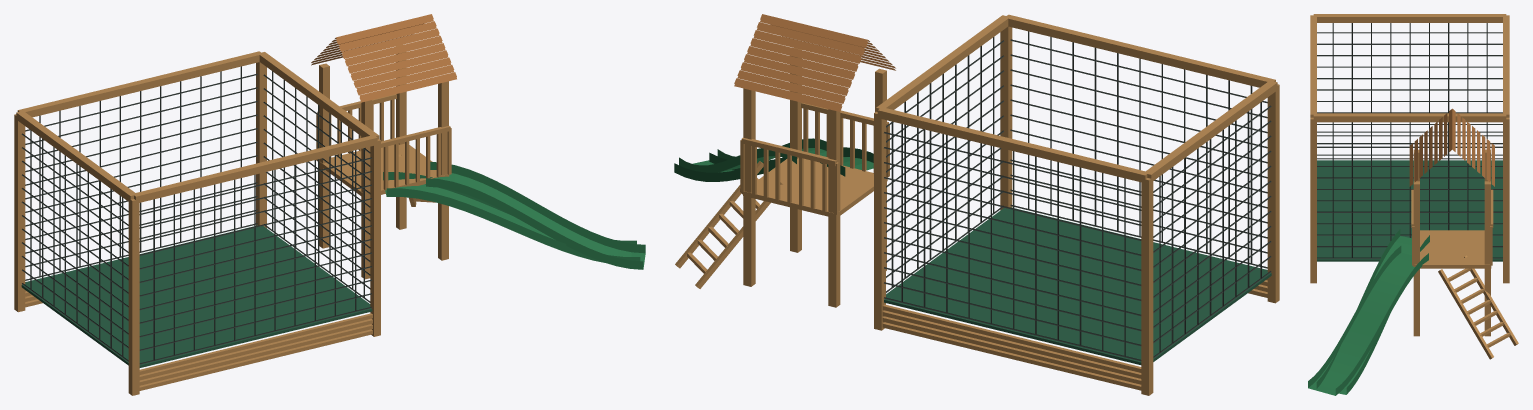
3 renders of one model, left to right at view 1: azimuth 30°, elevation 25°; view 2: azimuth 150°, elevation 25°; view 3: azimuth 270°, elevation 25°, orthographic. The views are drawn at different scales.
Parts seen in each view (by area): view 1: SW-E108; view 2: SW-E108; view 3: SW-E108.
Boxes of the visible parts, x1,y1,x2,y2 form: SW-E108: (14, 14, 645, 395); SW-E108: (674, 14, 1279, 395); SW-E108: (1308, 14, 1518, 395).
Size of the model in its own units: 7.8 by 3.2 by 3.2.
